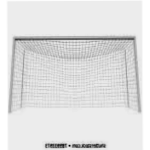goals: (8, 34, 143, 116)
